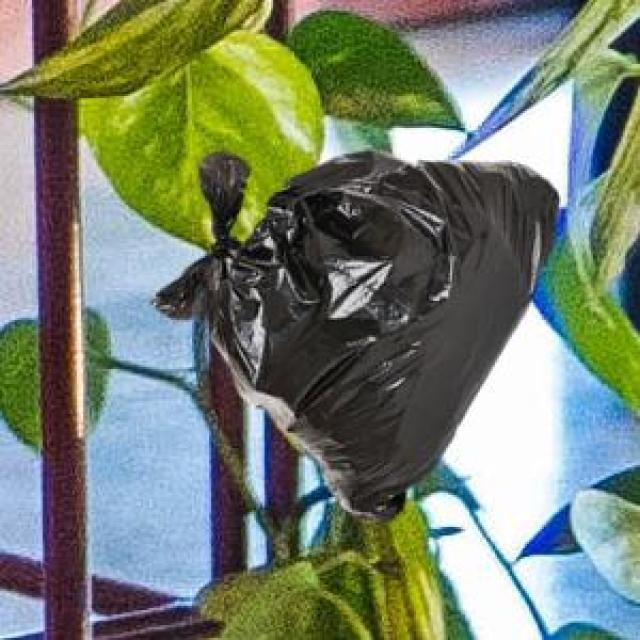miscellaneous trash: (147, 147, 555, 518)
